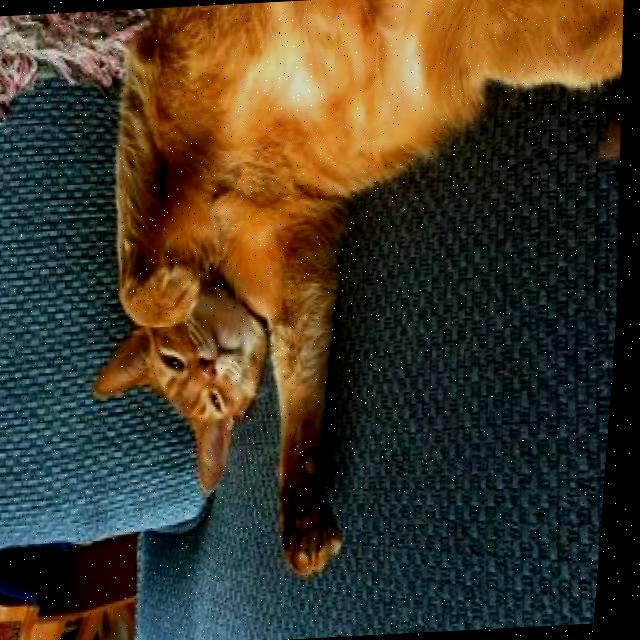Abyssinian: (58, 0, 640, 600)
